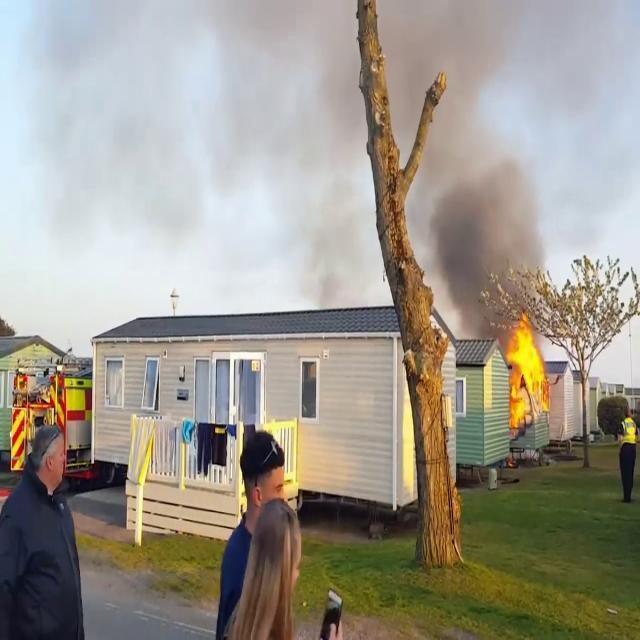Fire: (503, 318, 551, 427)
Smoke: (8, 0, 556, 321)
